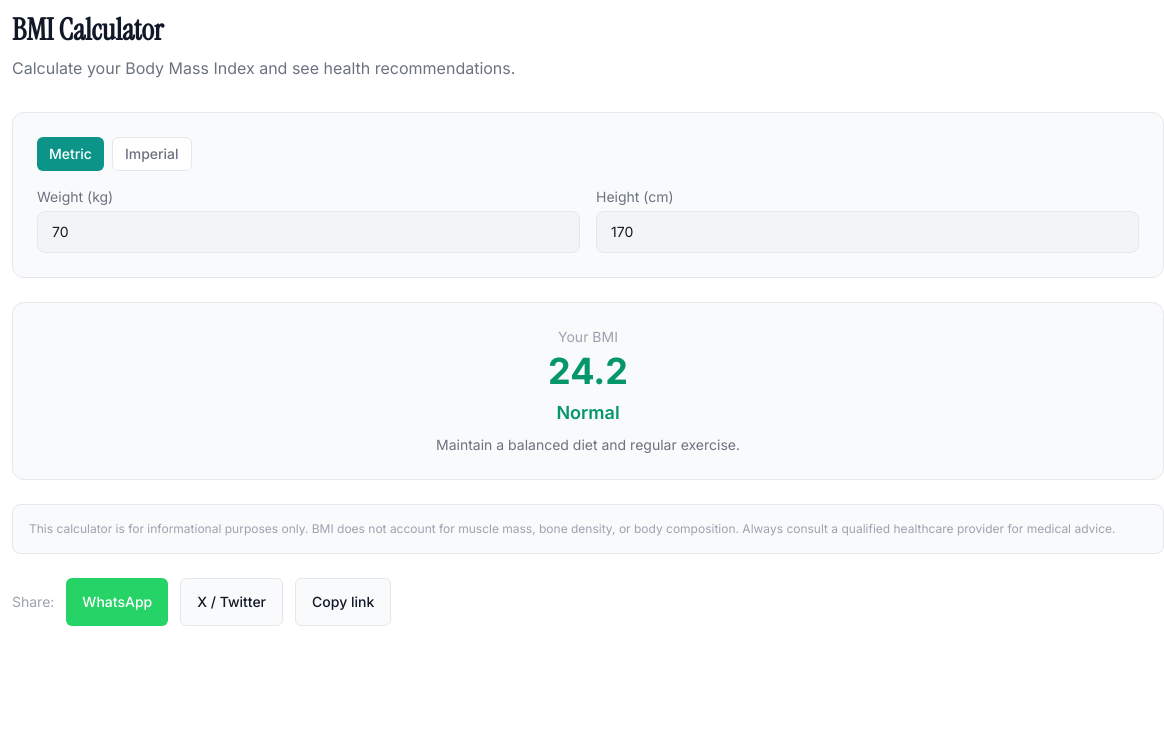
BmiCalculator › updates BMI when weight changes
Replace the text in the number field below "Weight (" with "120" at (308, 232), box [37,211,580,253]
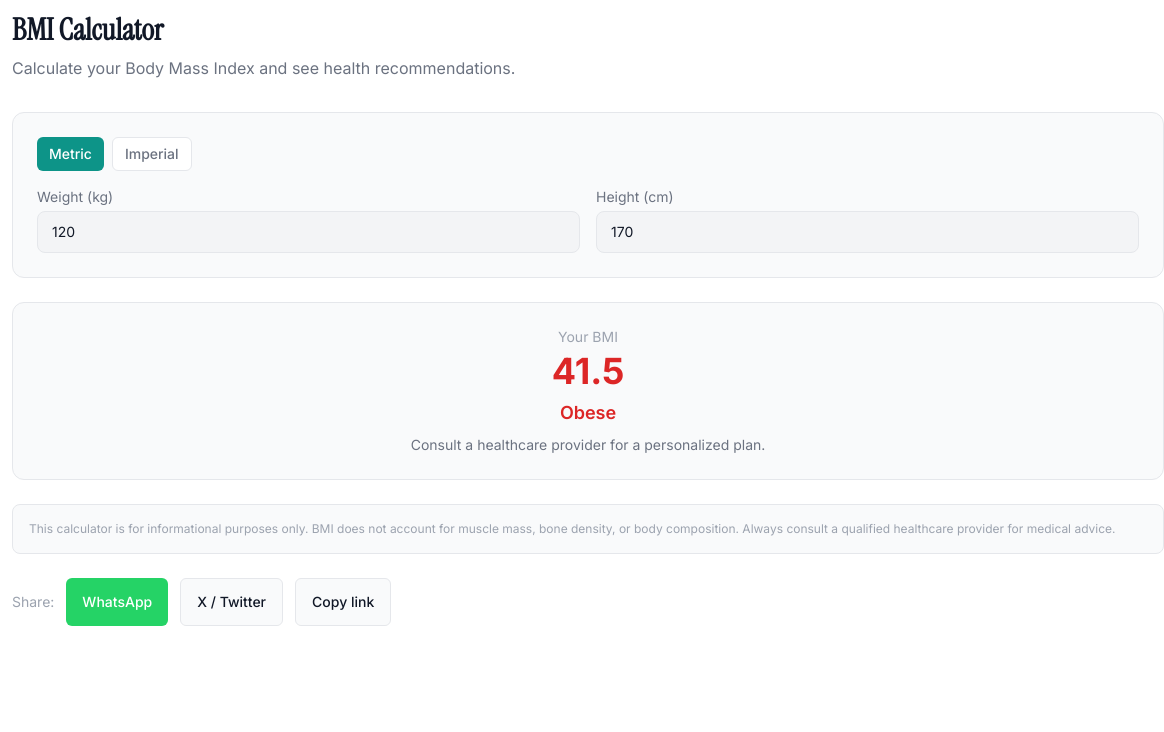
Now the text "Obese" is shown, box [560,402,616,423]
